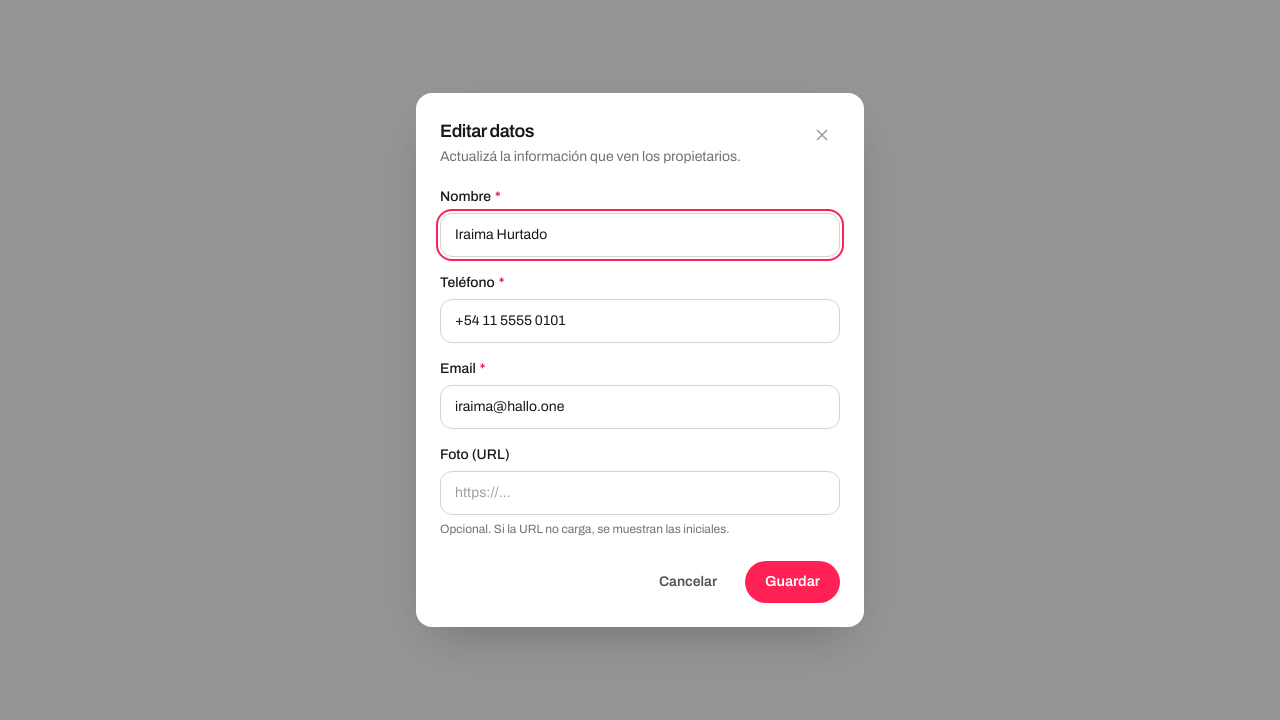
Test: ProfileEditModal › shows validation errors and does not save with empty required fields
The image size is (1280, 720).
Clear the field labelled "Nombre *". click: coordinates (640, 235)
box: [455,225,825,245]
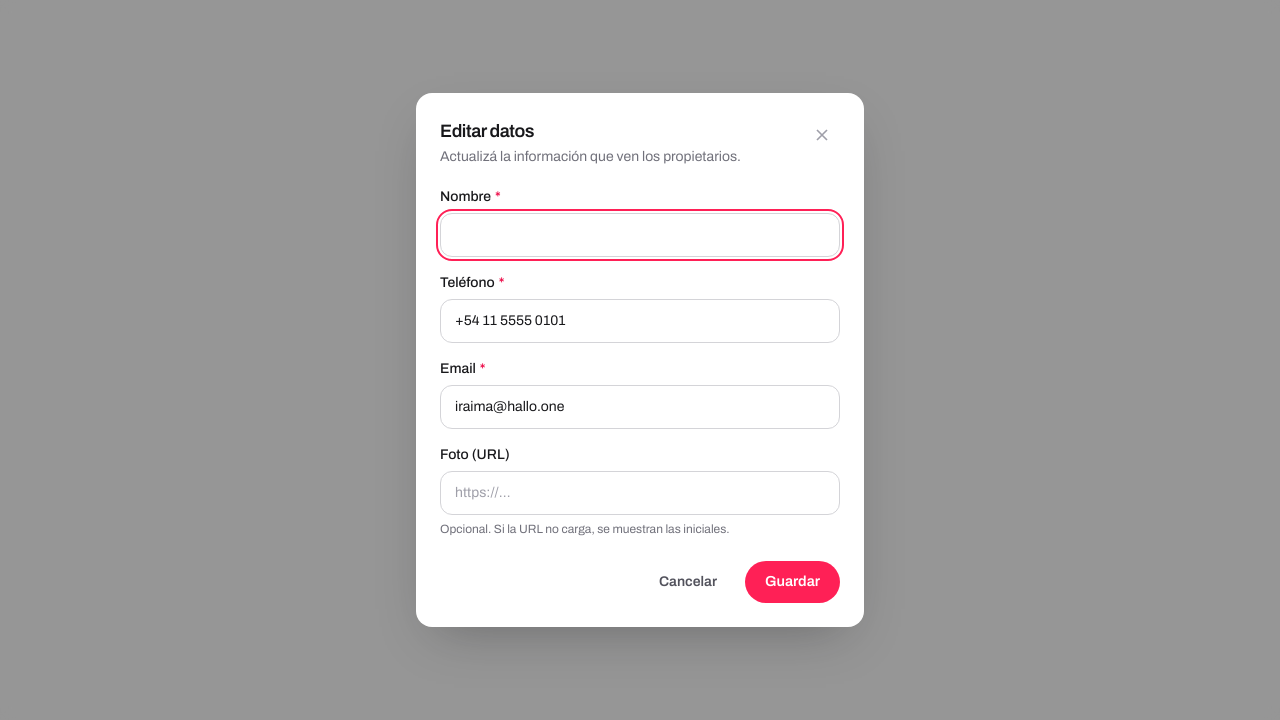
Click the button "Guardar". click: coordinates (792, 582)
box: [745,561,840,603]
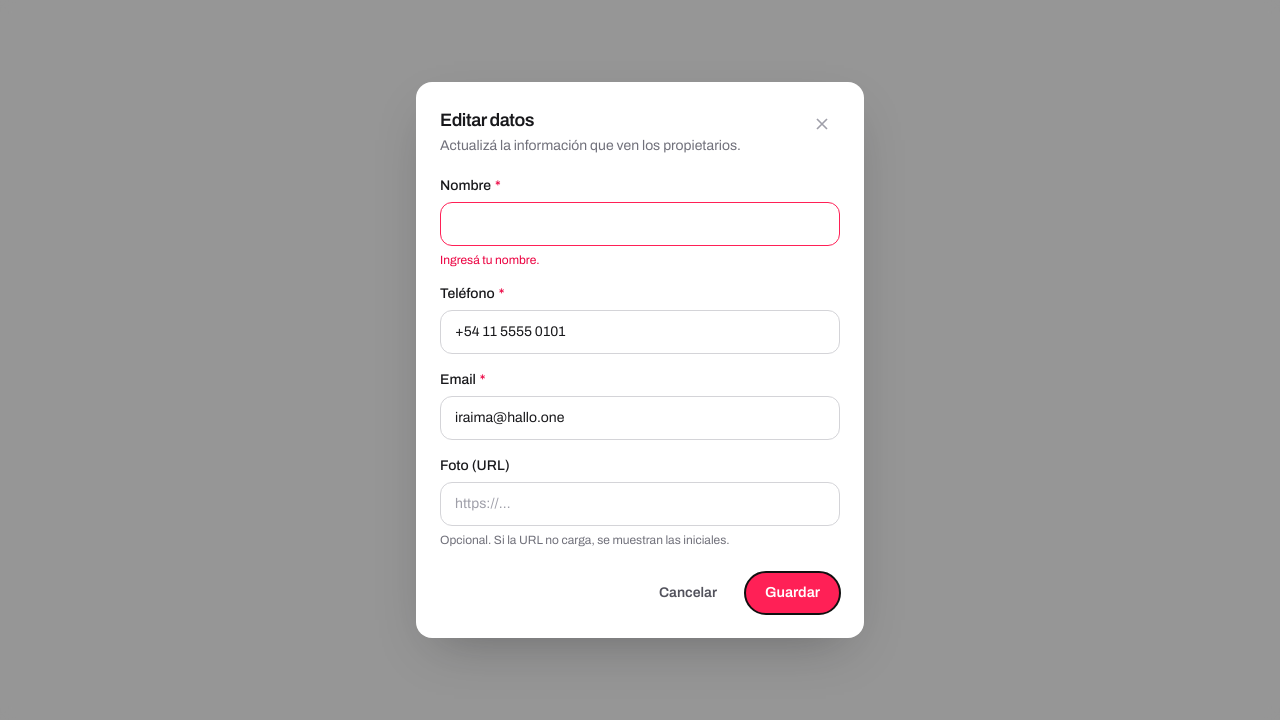
Check: the text "Ingresá tu nombre." is shown, box [440,253,540,267]
